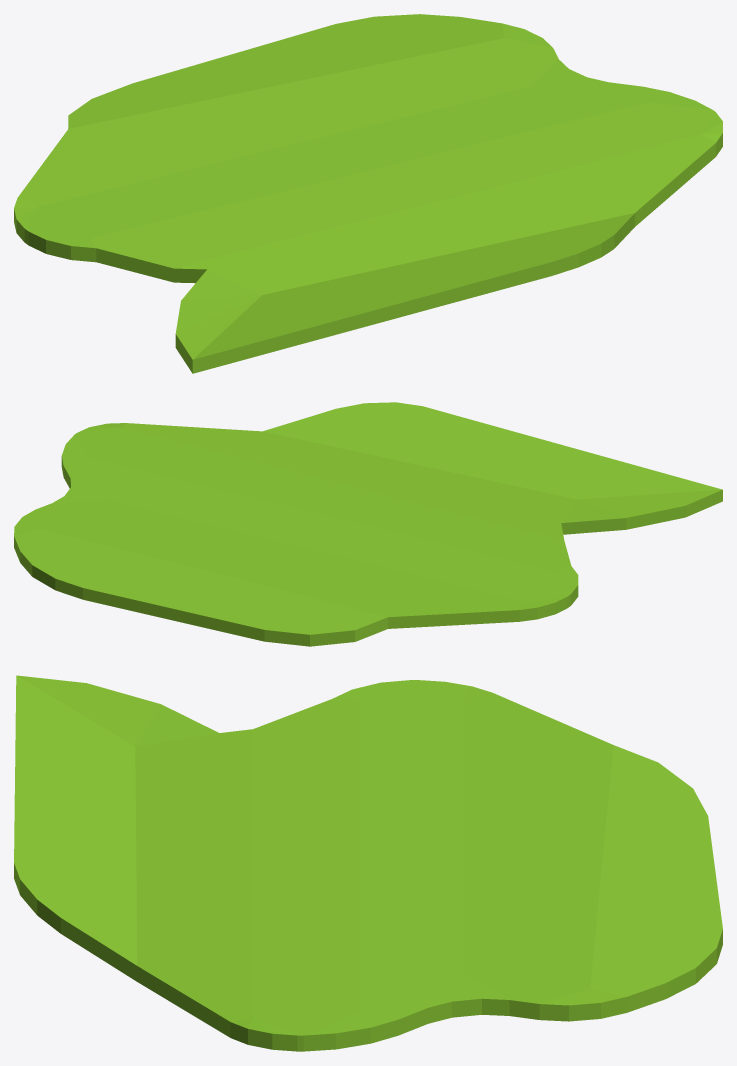
The model's file is stickyliquid2_1.fbx.
3 renders of one model, top to bottom at view 1: azimuth 30°, elevation 25°; view 2: azimuth 150°, elevation 25°; view 3: azimuth 270°, elevation 25°, orthographic. The views are drawn at different scales.
Visible parts, largest first — view 1: Plane.001; view 2: Plane.001; view 3: Plane.001.
Part boxes in pixels (x1,y1,x2,y2): Plane.001: (14,14,722,373); Plane.001: (14,402,722,646); Plane.001: (14,675,722,1051).
Size of the model in its own units: 233 by 13.07 by 194.
1 material, 1 textured.
